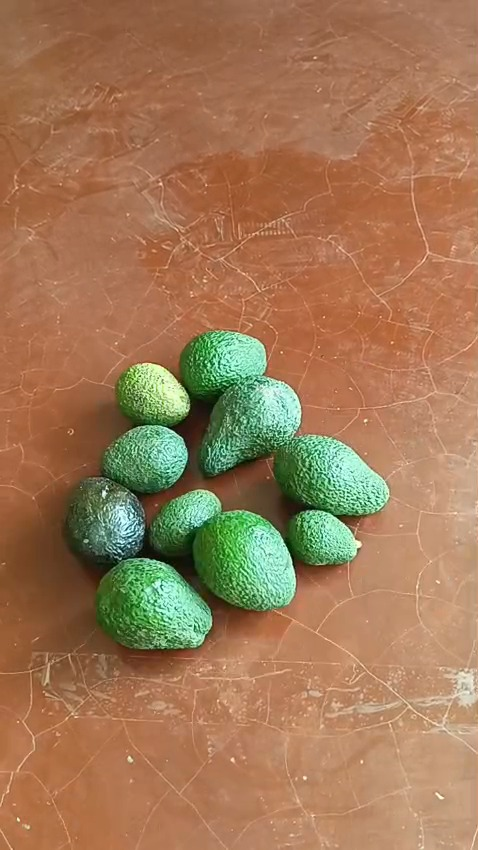Primera: (93, 557, 213, 648), (198, 376, 302, 476), (193, 510, 296, 609), (272, 434, 389, 514), (63, 476, 147, 566), (178, 328, 268, 400)
Segunda: (101, 424, 189, 494), (114, 360, 191, 426)
Tercera: (148, 488, 223, 557), (284, 508, 361, 566)
